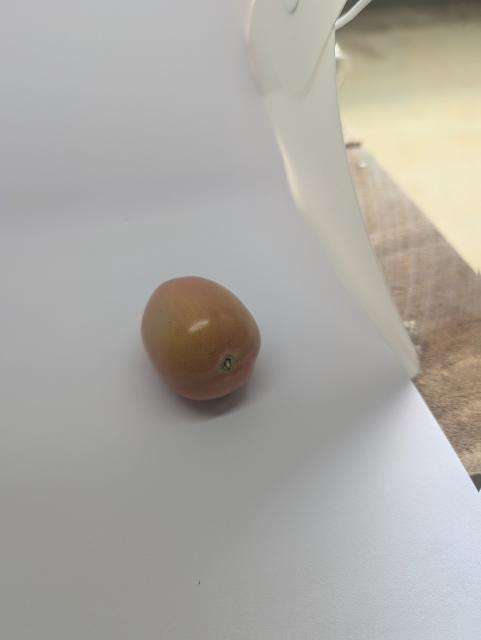turning: (133, 268, 267, 406)
